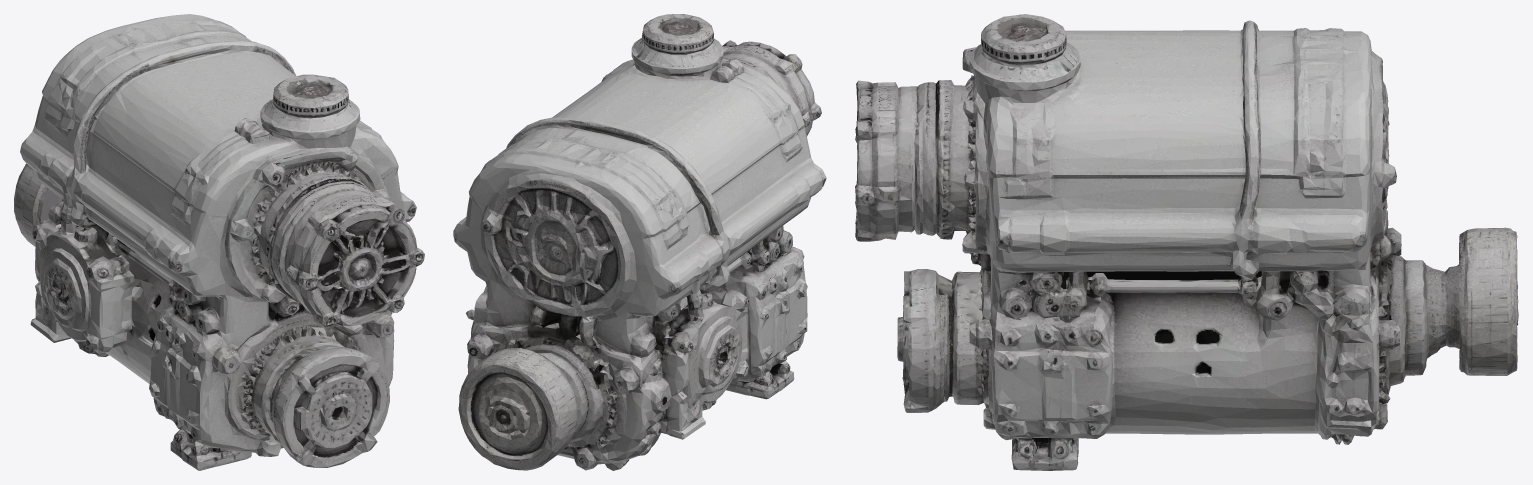
The model's file is head (376).glb.
3 views of the same model, side by side, from view 1: azimuth 30°, elevation 25°; view 2: azimuth 150°, elevation 25°; view 3: azimuth 270°, elevation 25° (orthographic). The views are drawn at different scales.
Parts seen in each view (by area): view 1: Hy21_Mesh.obj; view 2: Hy21_Mesh.obj; view 3: Hy21_Mesh.obj.
Boxes of the visible parts, x1,y1,x2,y2 form: Hy21_Mesh.obj: (14, 14, 424, 470); Hy21_Mesh.obj: (453, 14, 826, 470); Hy21_Mesh.obj: (855, 14, 1518, 470).
Bounding box in the file's own units: 0.9733 × 1.32 × 1.95.
1 material, 1 textured.
